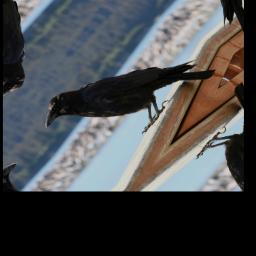Crow: (32, 22, 218, 169)
